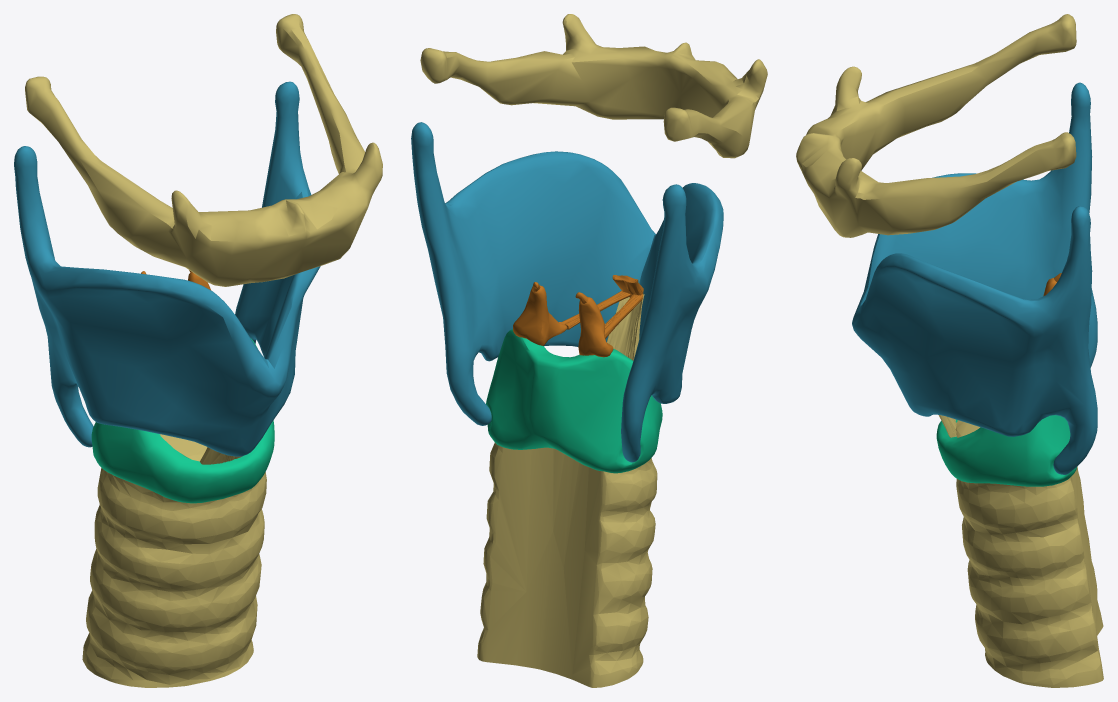
The model's file is fbx_frame_0037.obj.
3 views of the same model, side by side, from view 1: azimuth 30°, elevation 25°; view 2: azimuth 150°, elevation 25°; view 3: azimuth 270°, elevation 25° (orthographic). The views are drawn at different scales.
Parts seen in each view (by area): view 1: maya2sketchfab.010, maya2sketchfab.001, maya2sketchfab.011, maya2sketchfab.005; view 2: maya2sketchfab.010, maya2sketchfab.001, maya2sketchfab.011, maya2sketchfab.005, maya2sketchfab.006, maya2sketchfab.004; view 3: maya2sketchfab.010, maya2sketchfab.001, maya2sketchfab.011, maya2sketchfab.005.
Part boxes in pixels (<box>): maya2sketchfab.010: <box>14,81,320,456</box>; maya2sketchfab.001: <box>82,434,266,687</box>; maya2sketchfab.011: <box>25,14,382,286</box>; maya2sketchfab.005: <box>91,338,274,503</box>; maya2sketchfab.010: <box>411,122,723,462</box>; maya2sketchfab.001: <box>477,294,657,687</box>; maya2sketchfab.011: <box>420,14,767,158</box>; maya2sketchfab.005: <box>486,329,662,473</box>; maya2sketchfab.006: <box>513,282,567,345</box>; maya2sketchfab.004: <box>575,292,613,357</box>; maya2sketchfab.010: <box>852,82,1097,474</box>; maya2sketchfab.001: <box>938,415,1103,687</box>; maya2sketchfab.011: <box>796,14,1076,237</box>; maya2sketchfab.005: <box>936,415,1076,486</box>.
Size of the model in its own units: 38.66 by 78.59 by 38.
